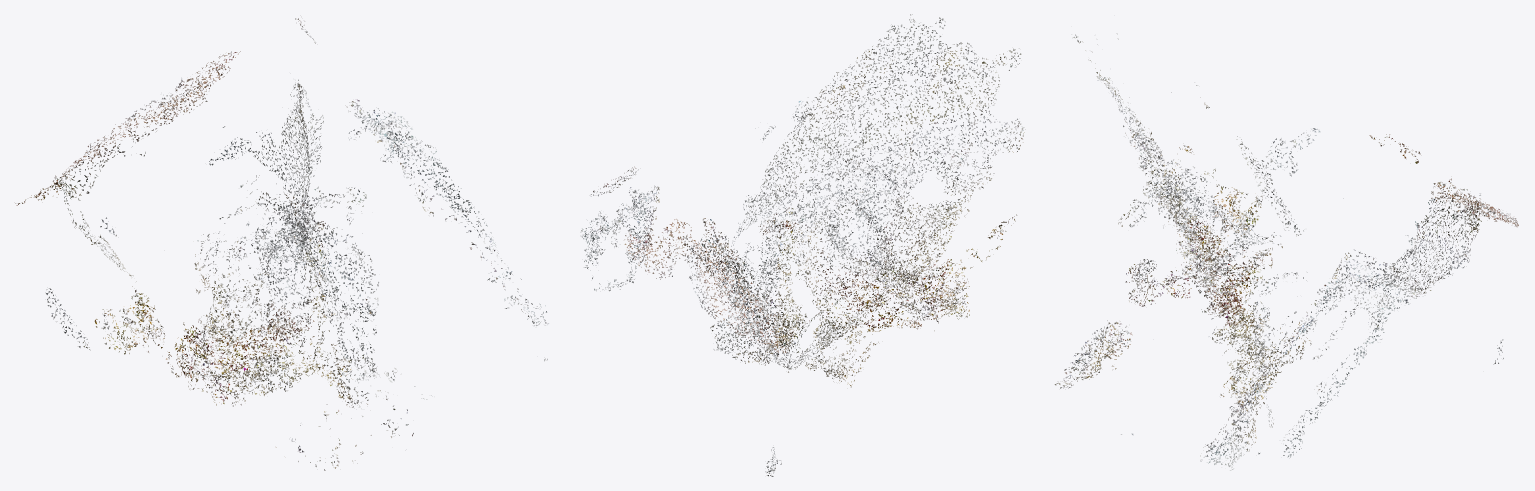
Rendered from true_3dgs_cloudcompare_poisson_depth8_trim8_mesh_faces40000.glb.
The picture shows the model from 3 angles, left to right: view 1: azimuth 30°, elevation 25°; view 2: azimuth 150°, elevation 25°; view 3: azimuth 270°, elevation 25°; orthographic projection. The views are drawn at different scales.
Size of the model in its own units: 16.68 by 14.77 by 16.79.
